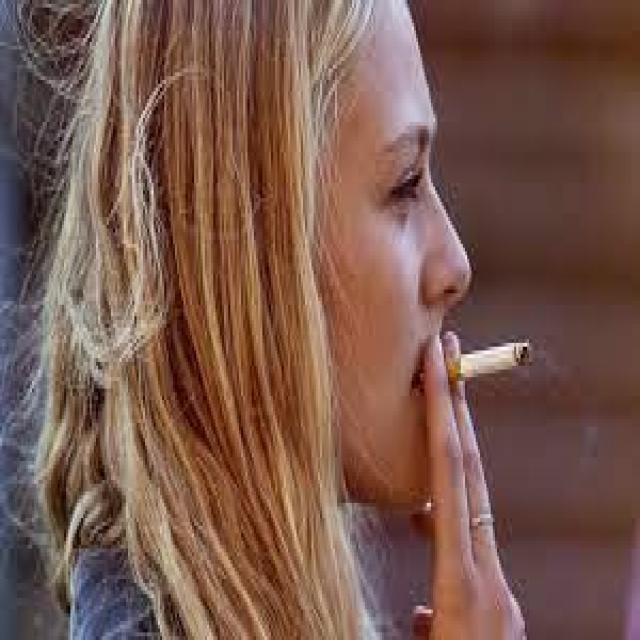cigarette: (444, 343, 533, 385)
